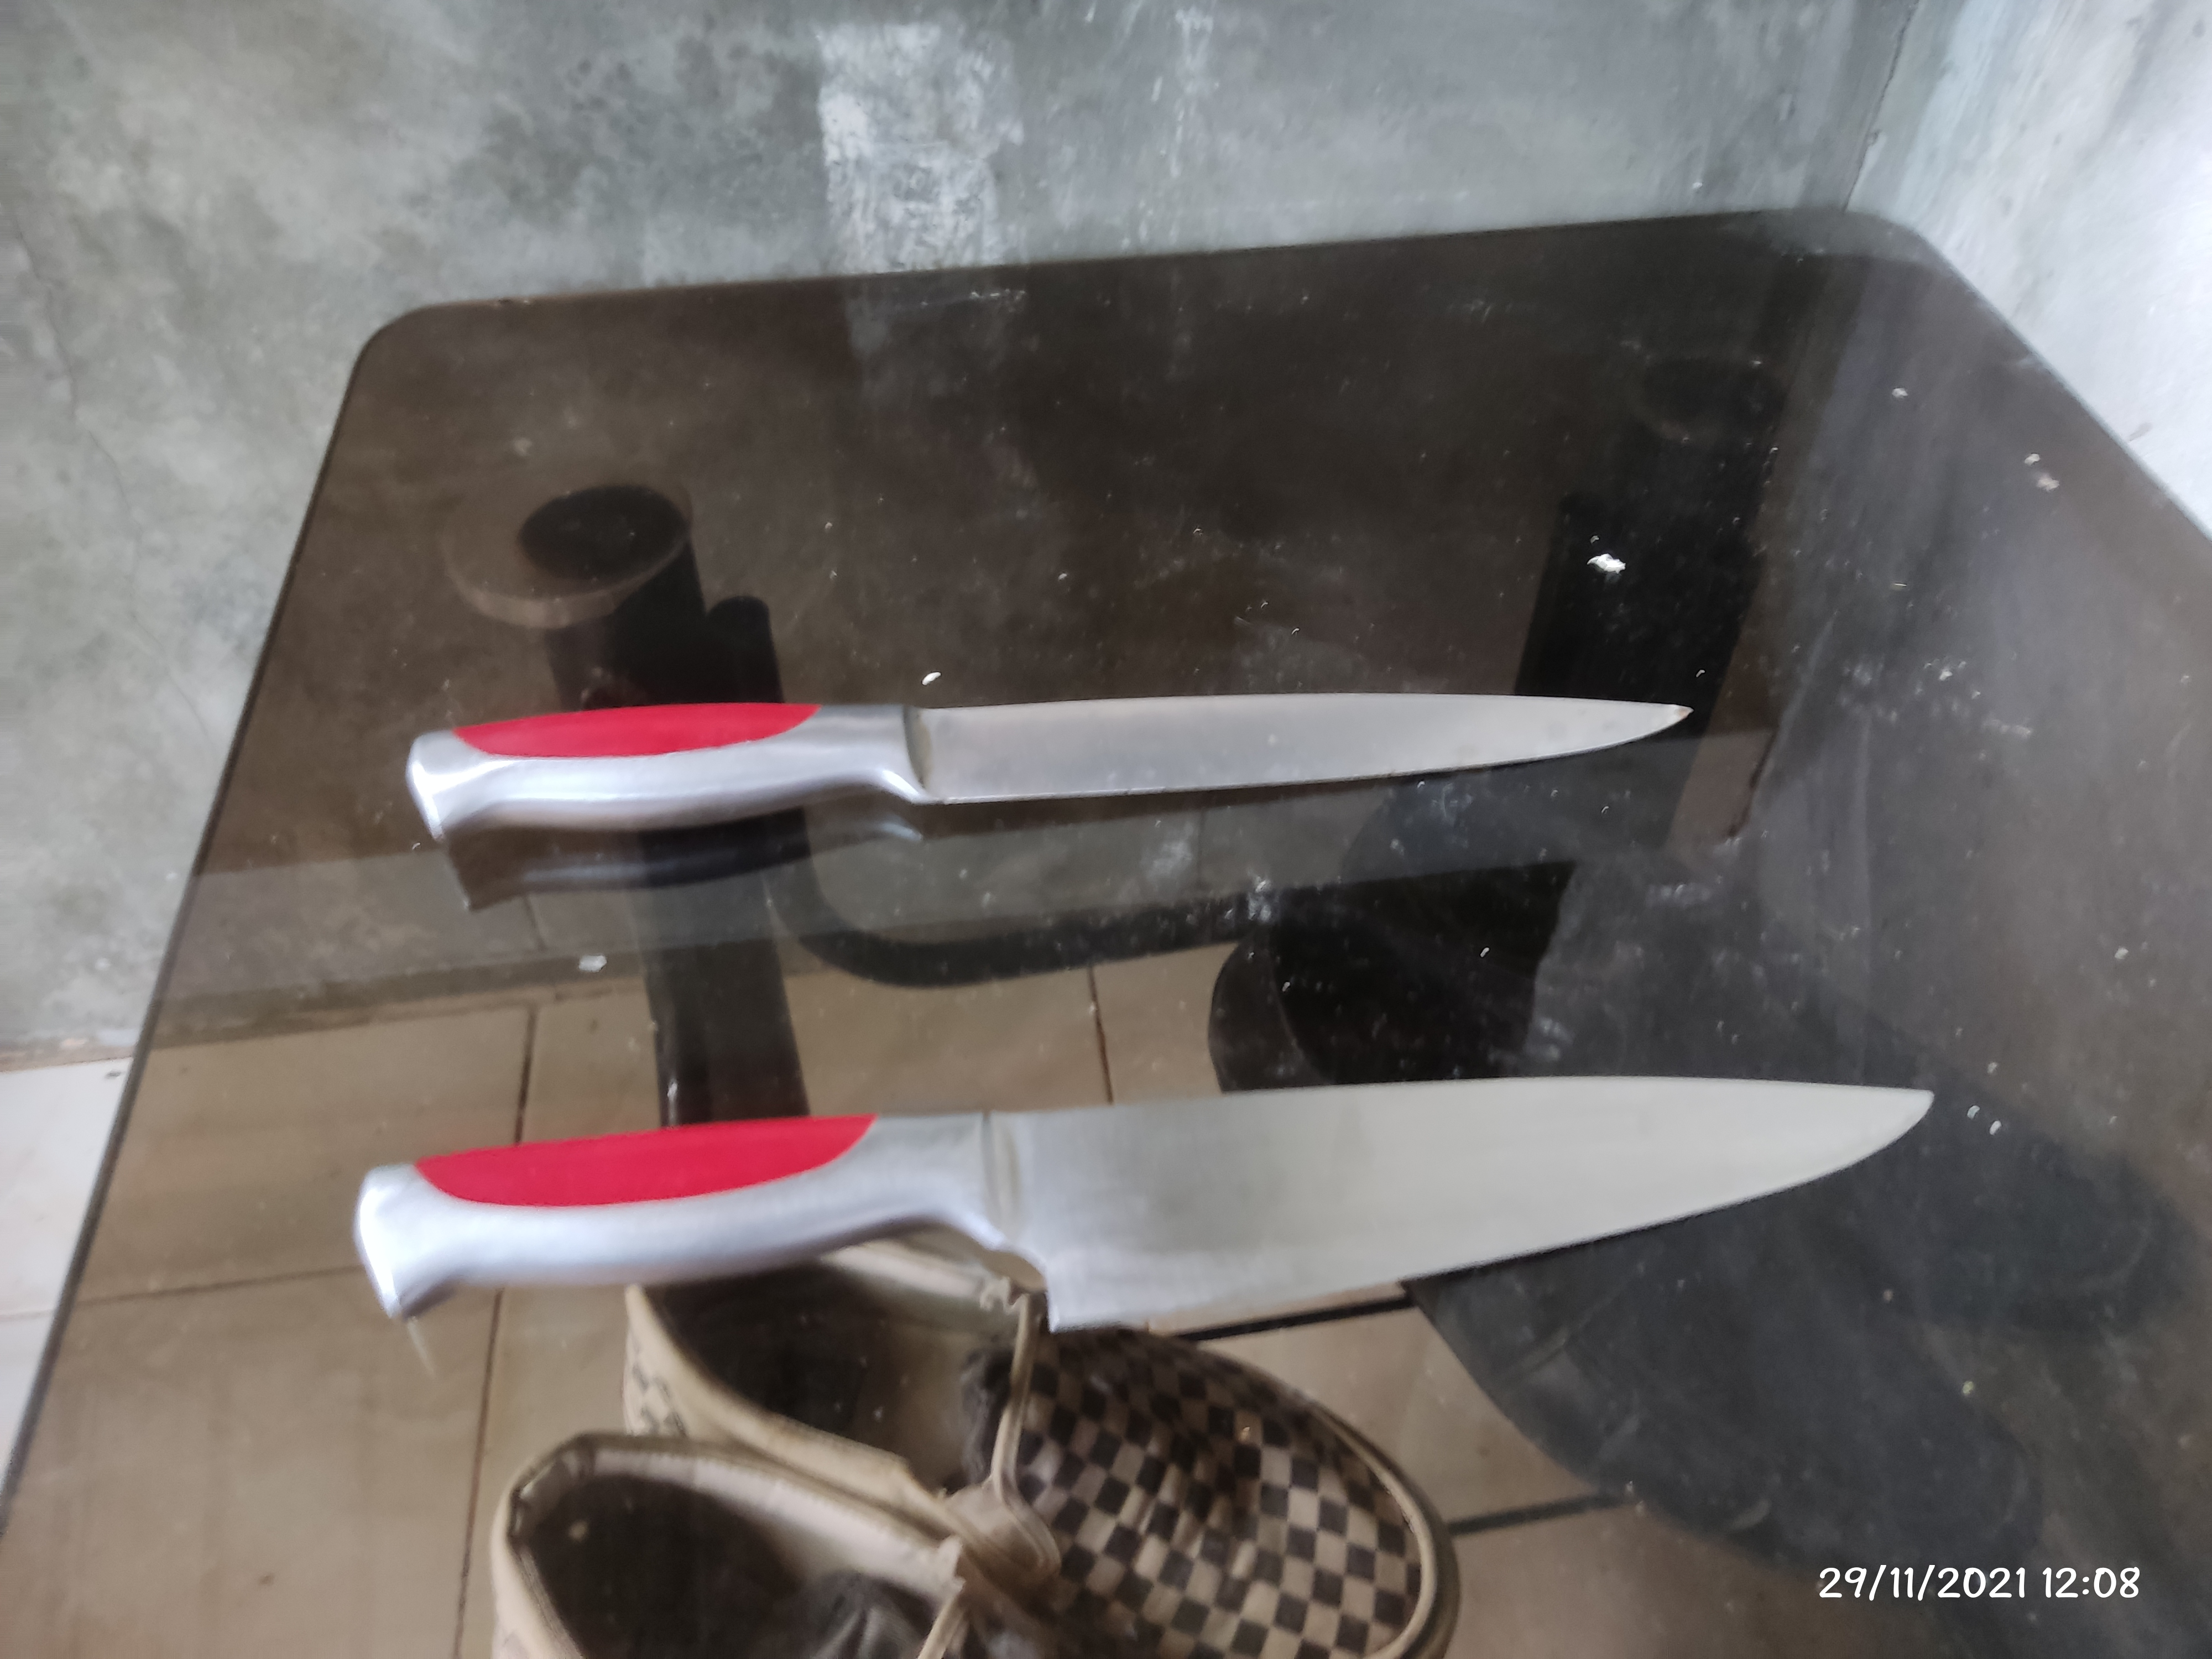knife: (361, 1079, 1935, 1333), (409, 695, 1693, 847)
